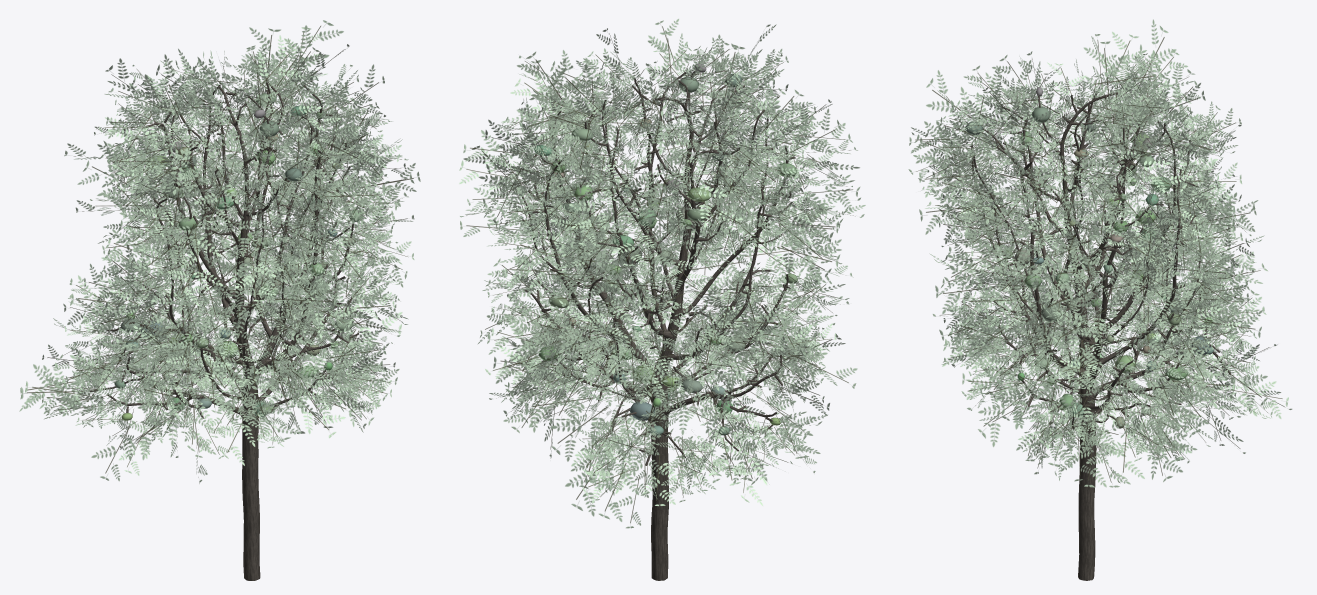
Rendered from tree_17_broadleaf.glb.
3 views of the same model, side by side, from view 1: azimuth 30°, elevation 25°; view 2: azimuth 150°, elevation 25°; view 3: azimuth 270°, elevation 25° (orthographic). The views are drawn at different scales.
Parts seen in each view (by area): view 1: tree_17_broadleaf.leaves, tree_17_broadleaf.trunk_branches, tree_17_broadleaf.foliage_volume; view 2: tree_17_broadleaf.leaves, tree_17_broadleaf.trunk_branches, tree_17_broadleaf.foliage_volume; view 3: tree_17_broadleaf.leaves, tree_17_broadleaf.trunk_branches, tree_17_broadleaf.foliage_volume.
Part boxes in pixels (x1,y1,x2,y2): tree_17_broadleaf.leaves: (19,20,420,483); tree_17_broadleaf.trunk_branches: (89,82,362,580); tree_17_broadleaf.foliage_volume: (114,93,363,420); tree_17_broadleaf.leaves: (459,19,865,528); tree_17_broadleaf.trunk_branches: (522,71,795,580); tree_17_broadleaf.foliage_volume: (534,63,797,435); tree_17_broadleaf.leaves: (908,19,1292,487); tree_17_broadleaf.trunk_branches: (971,92,1230,580); tree_17_broadleaf.foliage_volume: (965,87,1214,428).
Bounding box in the file's own units: 8.68 × 12.06 × 8.36.
3 materials, 2 textured.
